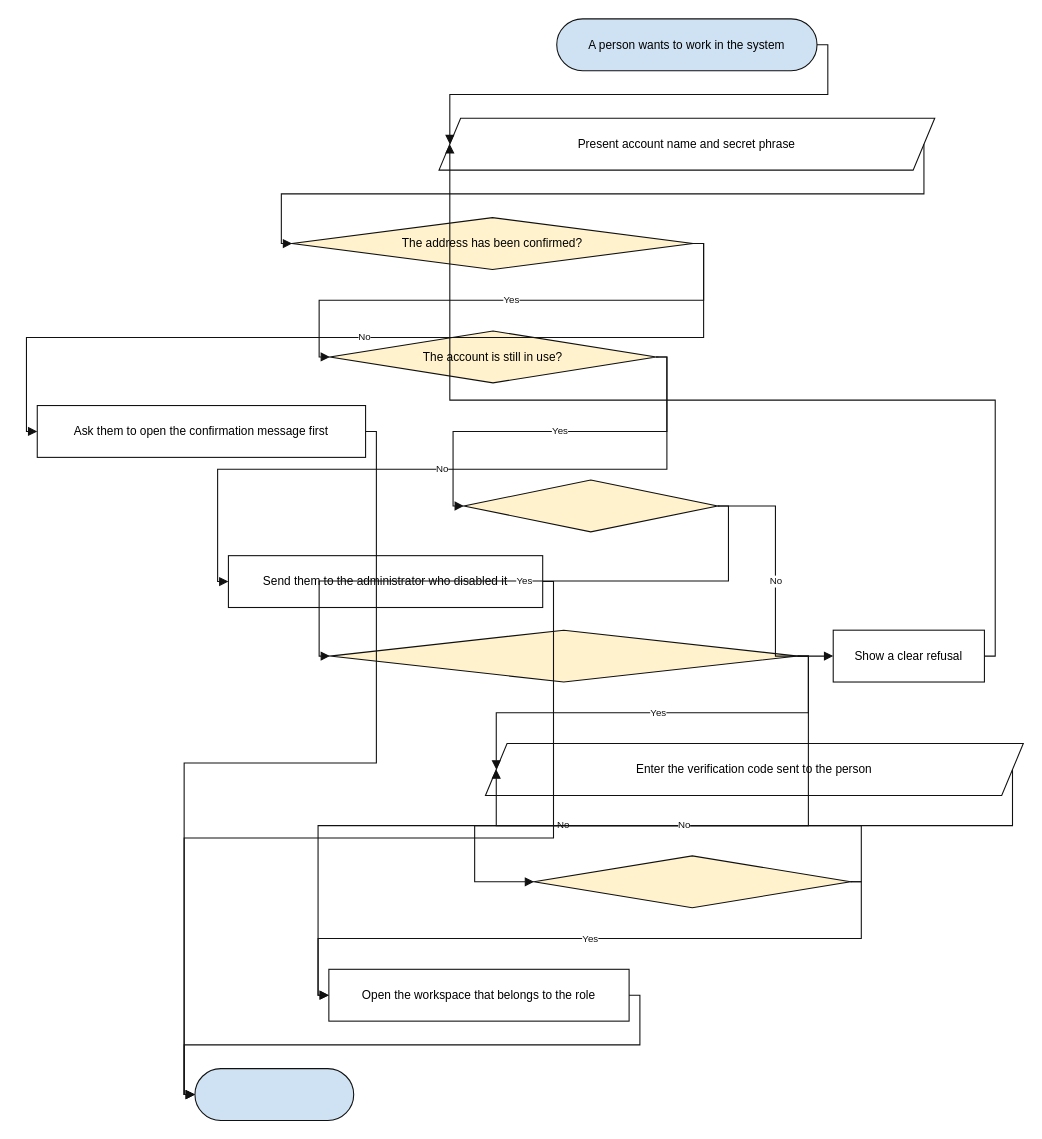
Image size: 1042x1139. Some labels were removed from this diagram. Here are the shapes that lost their labels. From the top down, the centre of each, then its label:
point (590, 505): Credentials correct?
point (563, 655): A second check is required for this role?
point (691, 881): Code current and correct?
point (274, 1094): The person is at work
